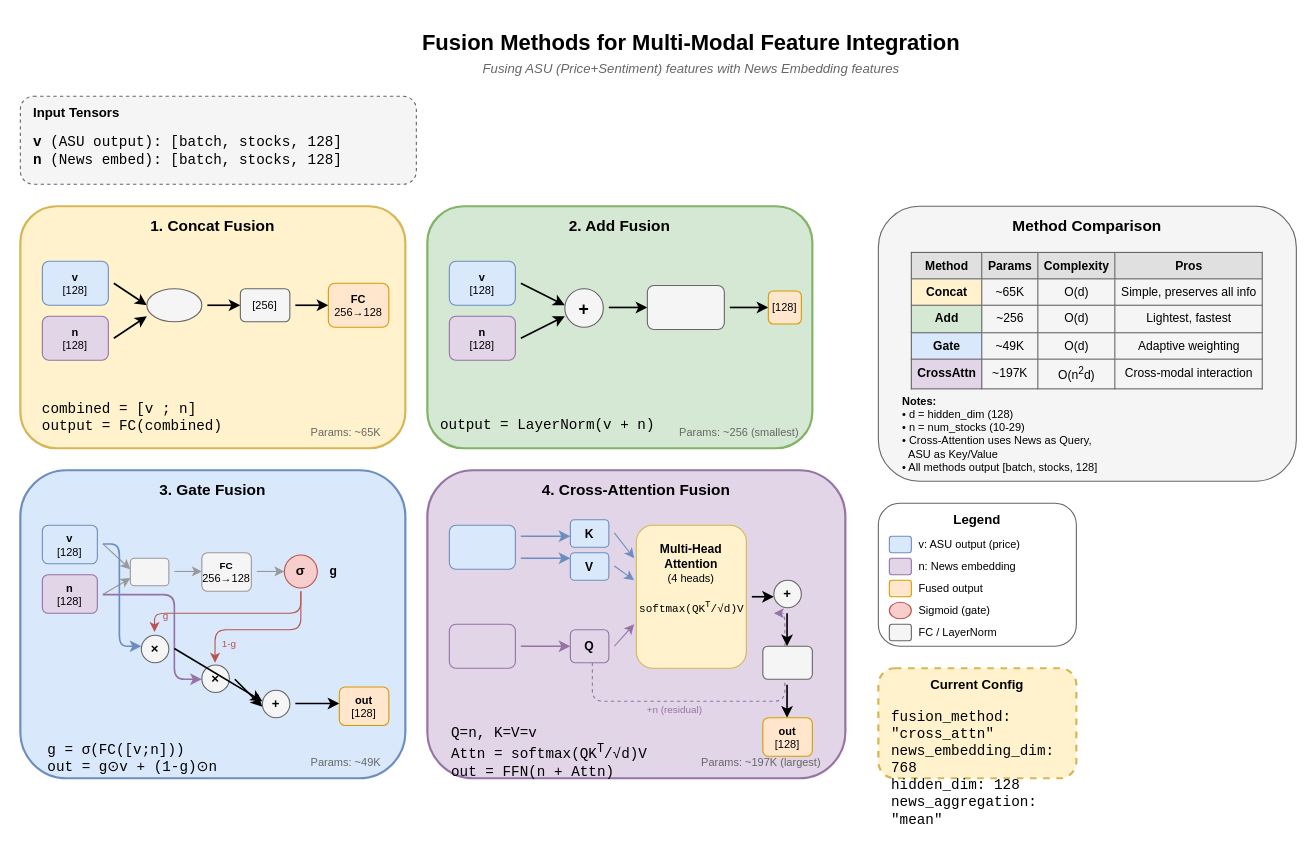
The diagram is 1316 pixels wide and 851 high, and some of its shapes have lost their labels. The shapes that lost their labels are listed below. From the top down, each one's centre as x and y in pixels, then its label:
the point at 174,305: Concat
the point at 685,306: LayerNorm
the point at 481,546: v (ASU) [128]
the point at 149,571: [v;n]
the point at 481,645: n (News) [128]
the point at 787,662: FFN
